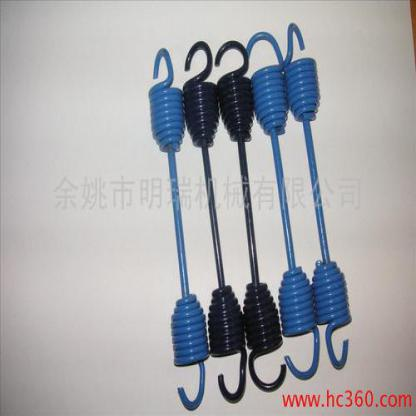FOD: (181, 37, 252, 407), (284, 21, 352, 371), (146, 45, 210, 411)
